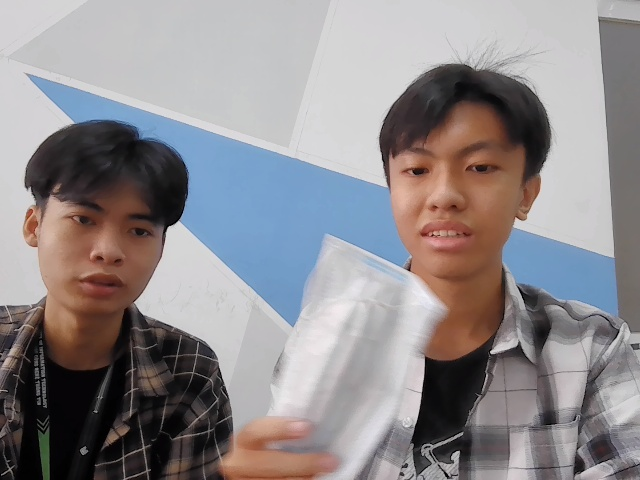human: (379, 62, 551, 278), (25, 121, 189, 318)
mask: (261, 238, 432, 480)
